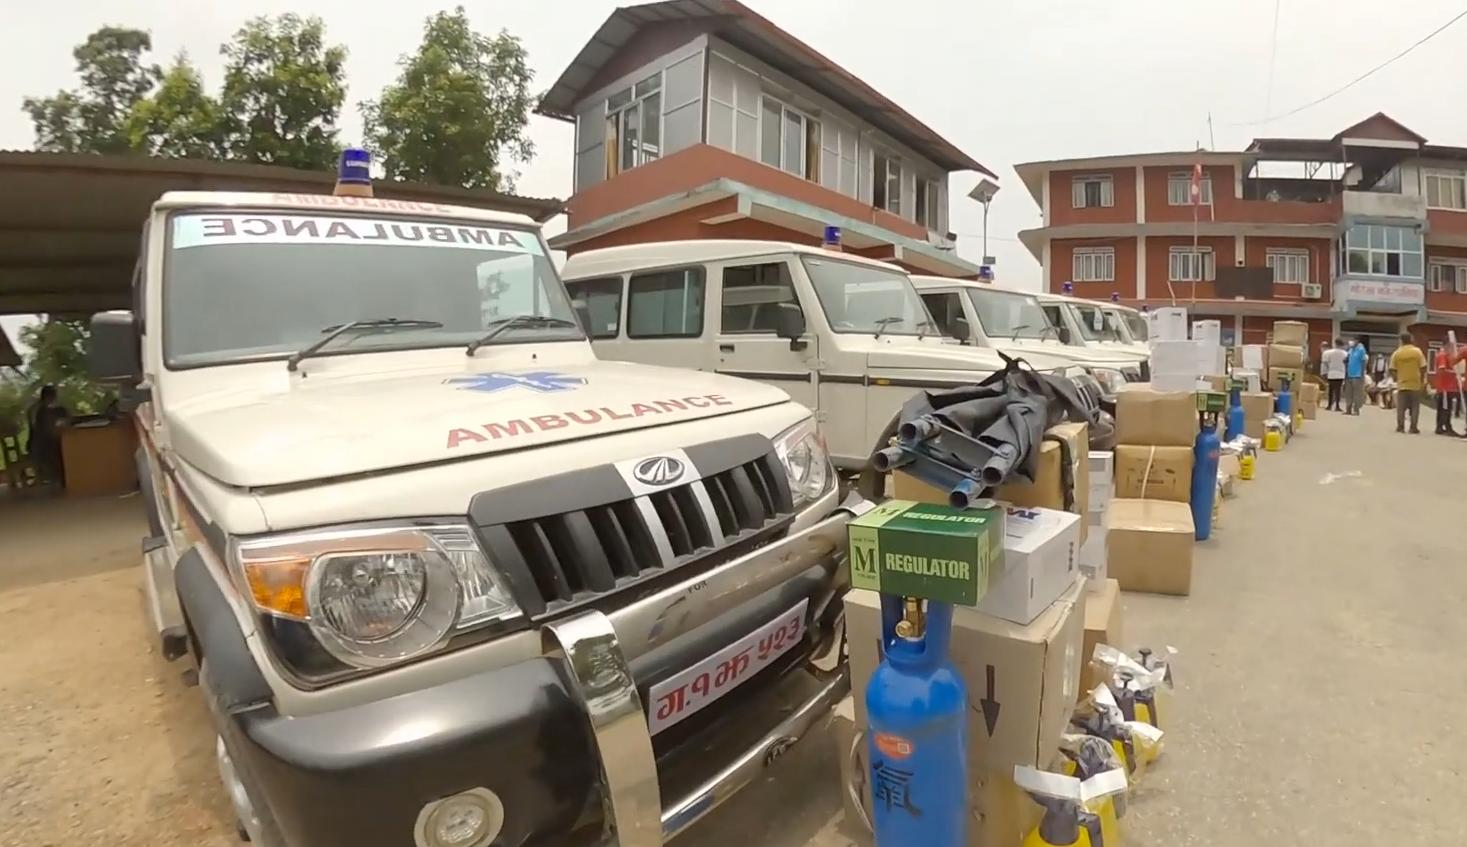ambulance: (74, 132, 869, 847)
